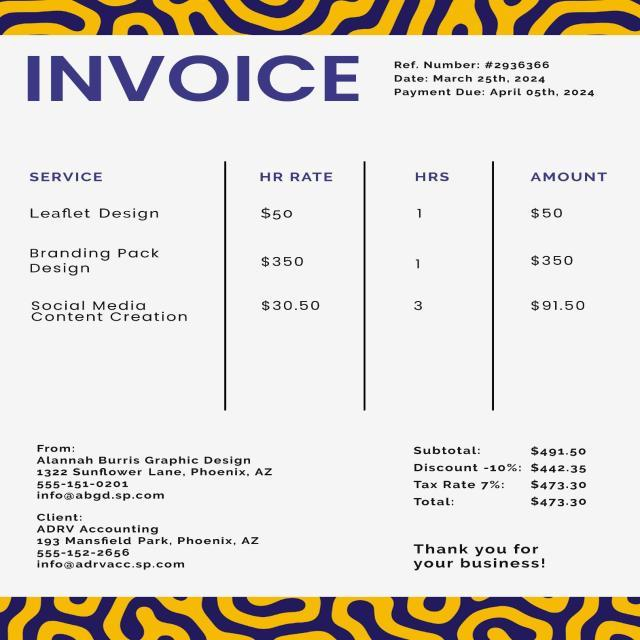ROI: (12, 146, 620, 420), (24, 41, 368, 118), (23, 508, 310, 580), (24, 437, 304, 502), (398, 438, 606, 519), (383, 44, 616, 110), (402, 534, 550, 580)
